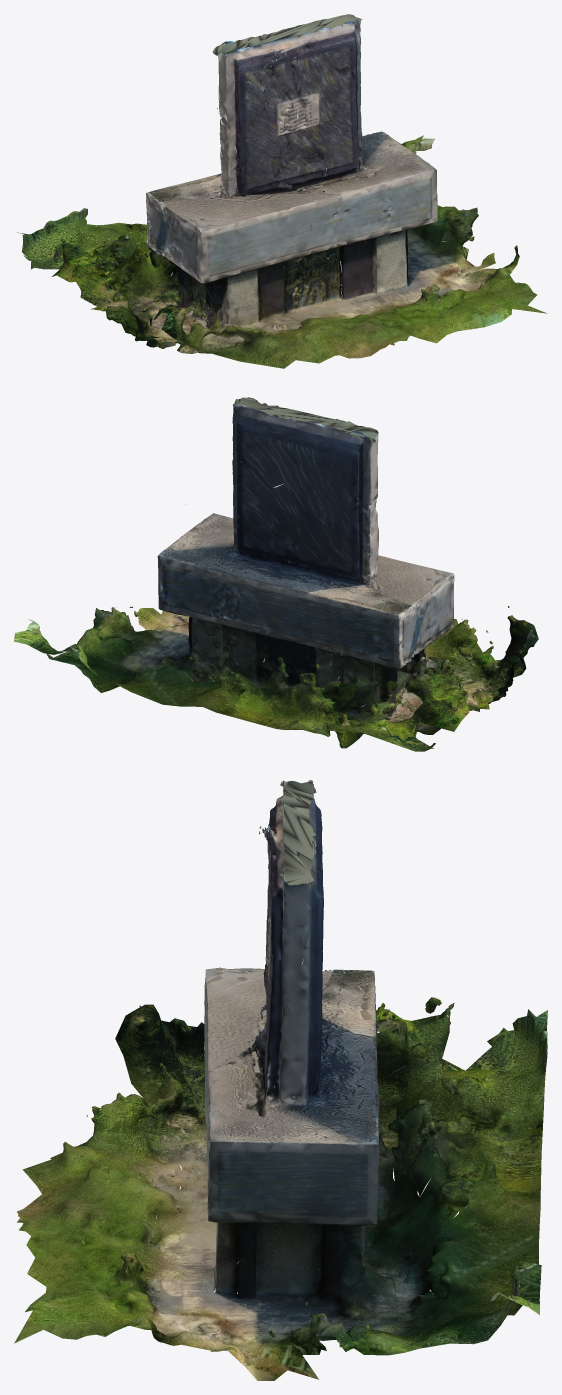
File: gumantuk.glb
3 views of the same model, one above another, from view 1: azimuth 30°, elevation 25°; view 2: azimuth 150°, elevation 25°; view 3: azimuth 270°, elevation 25° (orthographic). The views are drawn at different scales.
Parts seen in each view (by area): view 1: Mesh_1, Mesh_0; view 2: Mesh_0, Mesh_1; view 3: Mesh_1, Mesh_0.
Boxes of the visible parts, left/top/right/bottom form: Mesh_1: left=16, top=20, right=537, bottom=368; Mesh_0: left=23, top=14, right=547, bottom=363; Mesh_0: left=14, top=397, right=538, bottom=751; Mesh_1: left=43, top=405, right=538, bottom=742; Mesh_1: left=17, top=780, right=547, bottom=1380; Mesh_0: left=14, top=780, right=547, bottom=1366.
Size of the model in its own units: 159 by 105 by 117.
2 materials, 2 textured.
